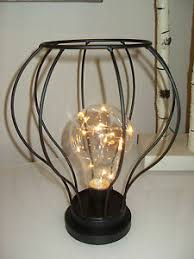bulb: (63, 101, 135, 210)
